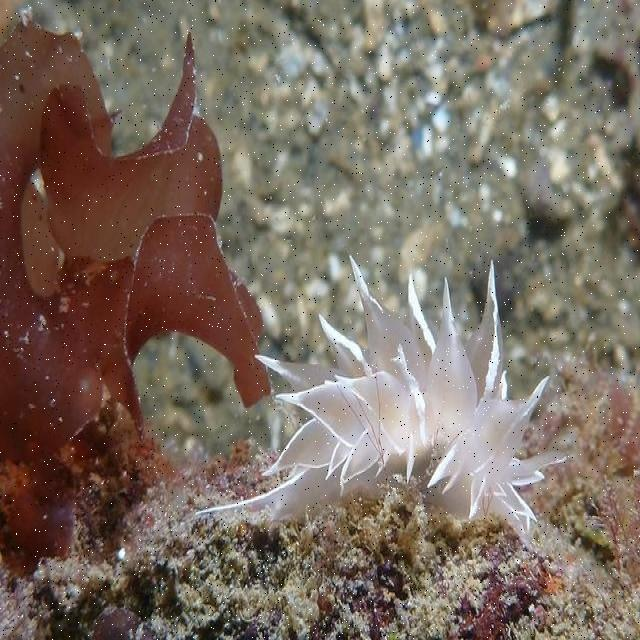reefs: (0, 18, 271, 580), (190, 250, 572, 536)
